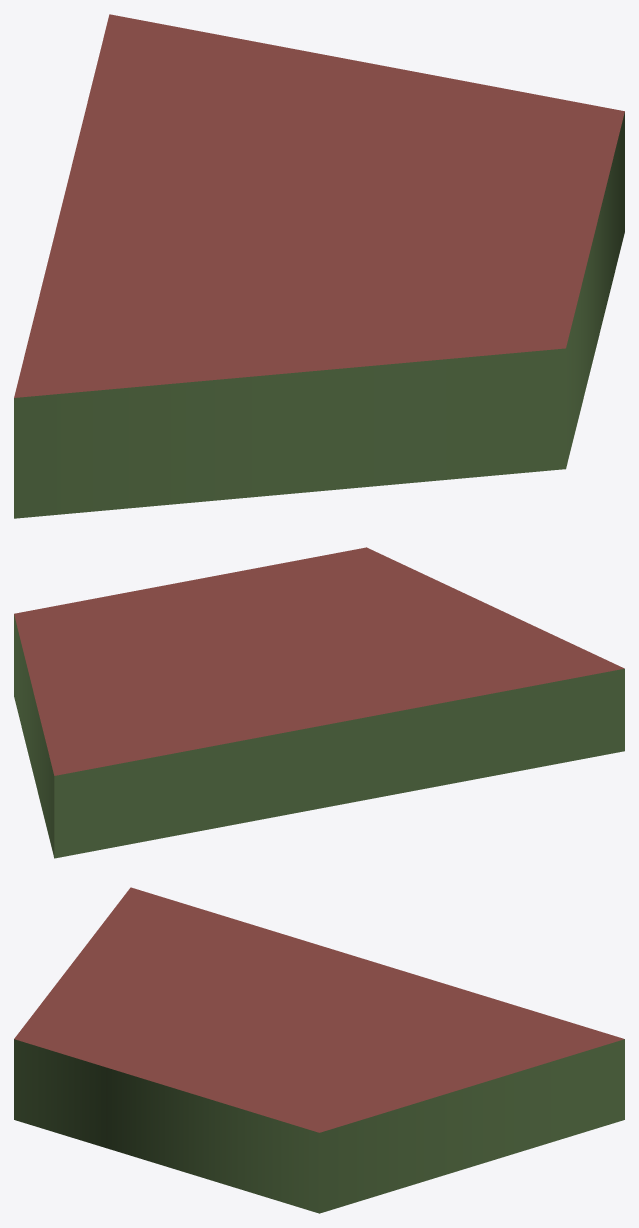
Rendered from plataformafixed.fbx.
3 renders of one model, top to bottom at view 1: azimuth 30°, elevation 25°; view 2: azimuth 150°, elevation 25°; view 3: azimuth 270°, elevation 25°, orthographic. The views are drawn at different scales.
Visible parts, largest first — view 1: RectangleCylinder_low; view 2: RectangleCylinder_low; view 3: RectangleCylinder_low.
Part boxes in pixels (box(x1,y1,x2,y2)): RectangleCylinder_low: box(14, 14, 624, 518); RectangleCylinder_low: box(14, 547, 624, 858); RectangleCylinder_low: box(14, 887, 624, 1213).
Size of the model in its own units: 122 by 18.68 by 128.
